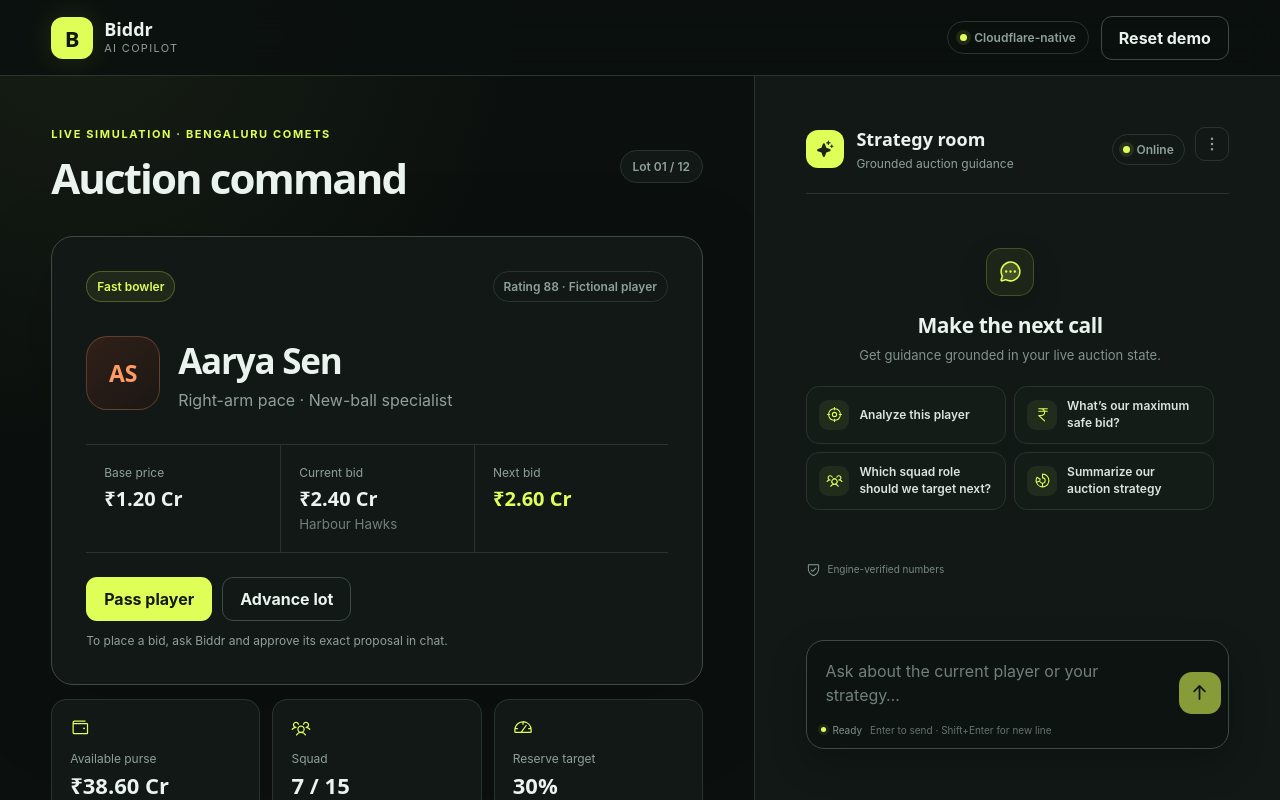
Test case: Biddr application shell › reports callable failures without exposing internal errors
The image size is (1280, 800).
Step 1. Click the button "Advance lot" → (287, 599), box [222, 577, 352, 621]
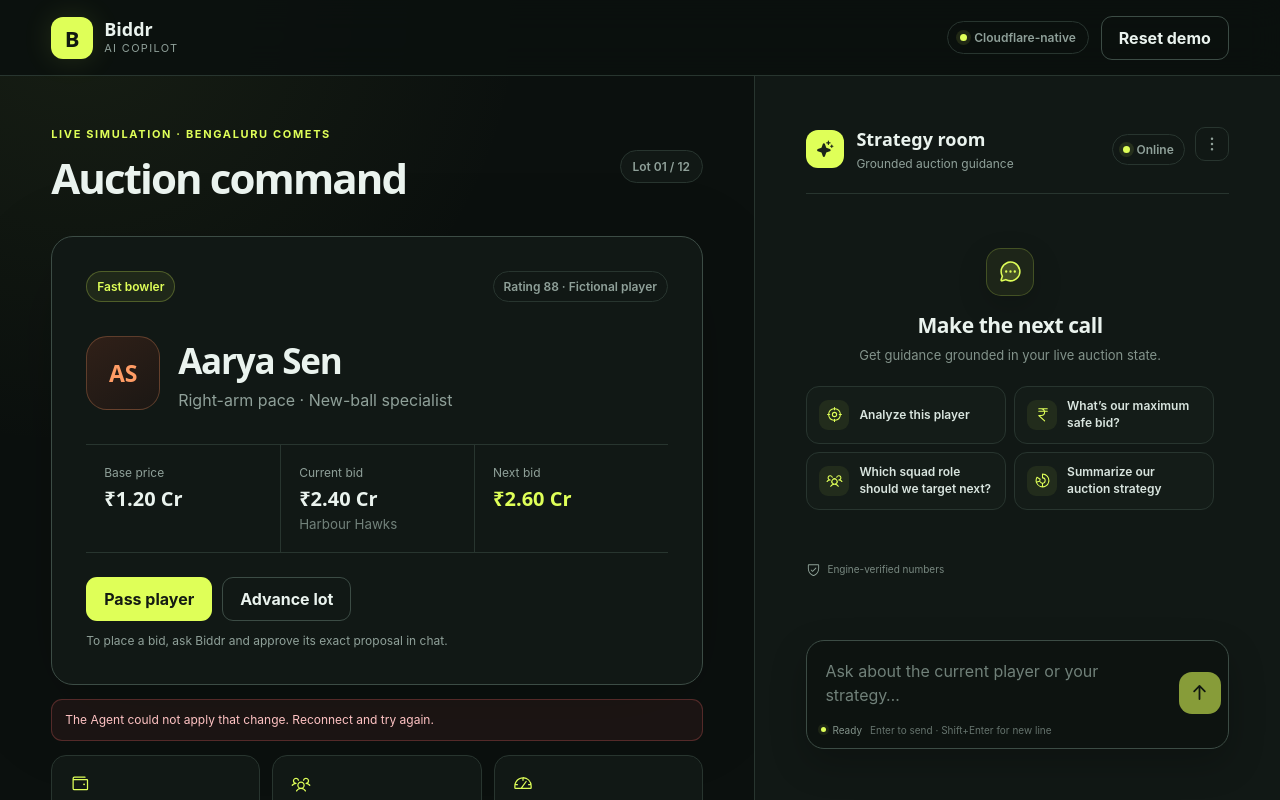
Result: the message "The Agent could not apply that change. Reconnect and try again." is shown at [51, 699, 703, 741]
